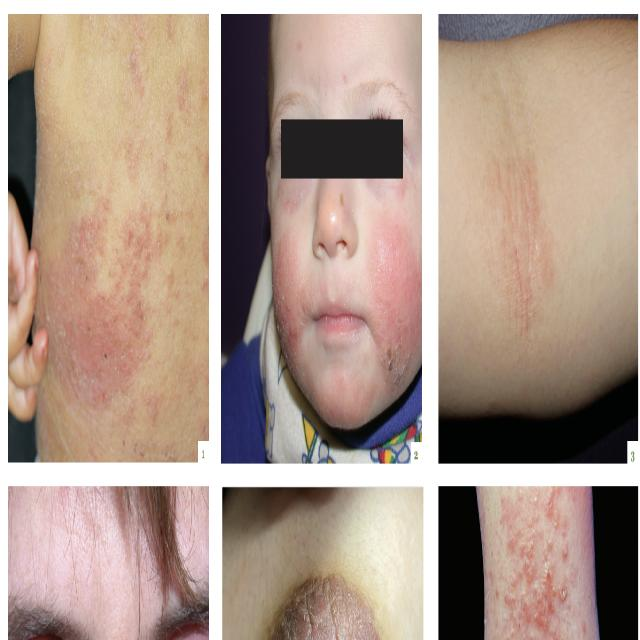eczema: (55, 118, 186, 400), (374, 277, 411, 415), (271, 252, 301, 376)
